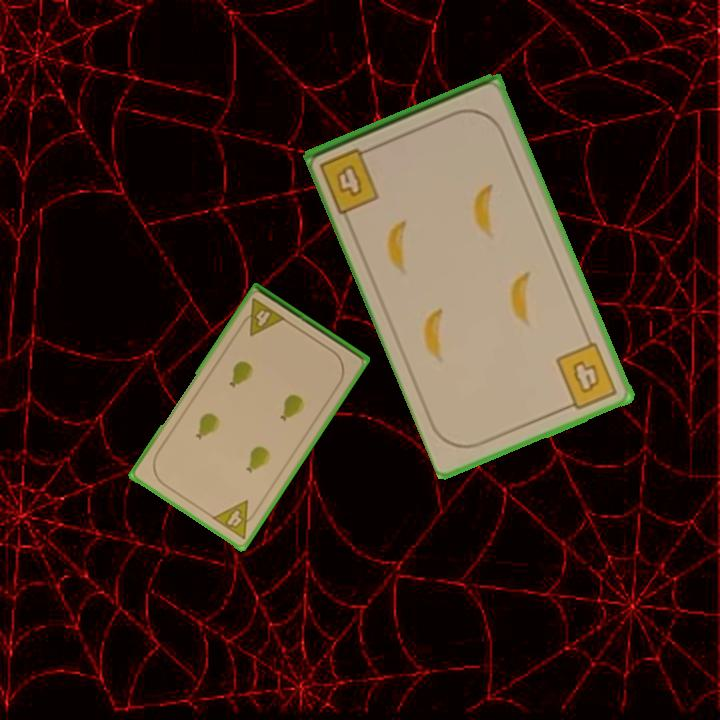4b: (552, 338, 621, 414), (316, 143, 383, 217)
4p: (208, 497, 262, 542), (236, 295, 289, 339)
